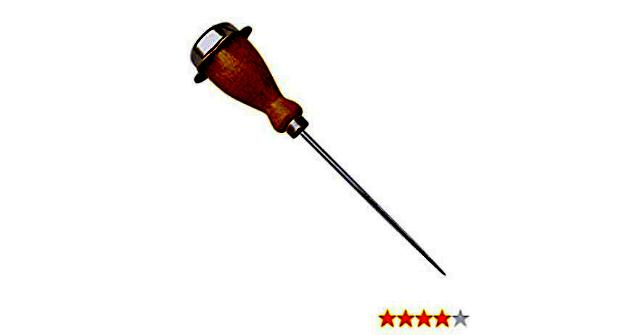ice pick: (188, 19, 448, 278)
